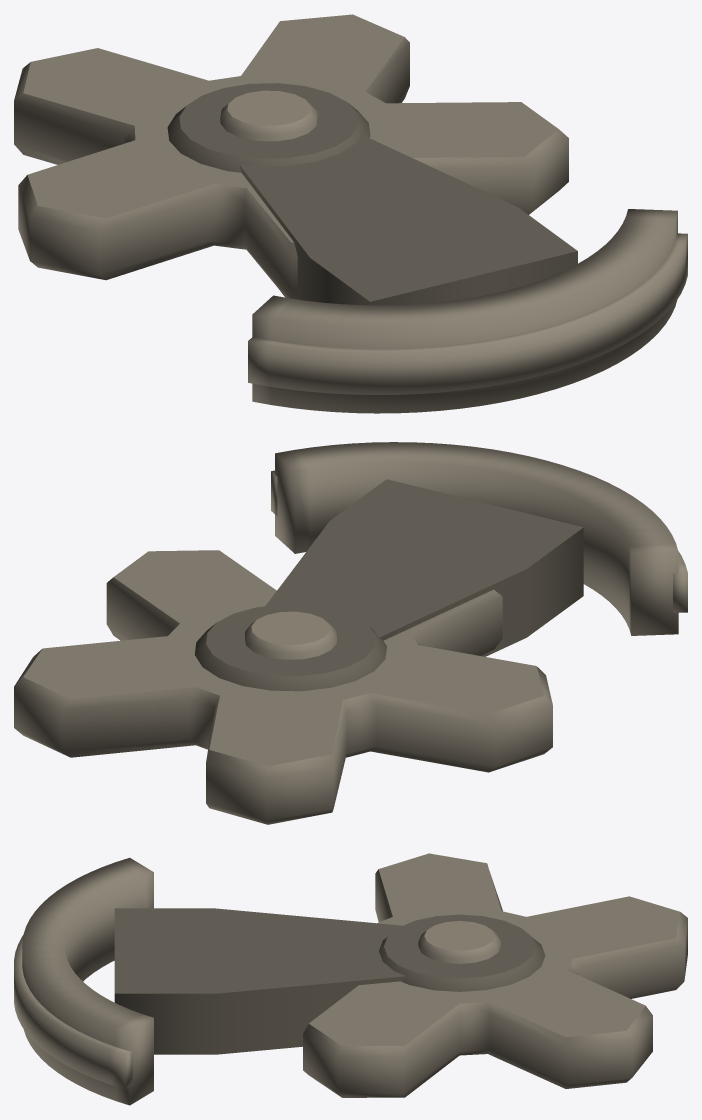
File: star-rowels.glb
3 views of the same model, one above another, from view 1: azimuth 30°, elevation 25°; view 2: azimuth 150°, elevation 25°; view 3: azimuth 270°, elevation 25° (orthographic). The views are drawn at different scales.
Visible parts, largest first — view 1: Beveled rowel wheel, Curved fork neck, Rolled yoke, Forged yoke rib, Raised rowel hub, Turned axle pin; view 2: Beveled rowel wheel, Curved fork neck, Rolled yoke, Raised rowel hub, Turned axle pin, Forged yoke rib; view 3: Beveled rowel wheel, Curved fork neck, Rolled yoke, Raised rowel hub, Forged yoke rib, Turned axle pin.
Part boxes in pixels (x1,y1,x2,y2): Beveled rowel wheel: (14, 14, 568, 299); Curved fork neck: (239, 135, 577, 305); Rolled yoke: (252, 209, 677, 413); Forged yoke rib: (248, 233, 687, 394); Raised rowel hub: (167, 83, 370, 172); Turned axle pin: (220, 90, 317, 141); Beveled rowel wheel: (14, 550, 552, 824); Curved fork neck: (265, 479, 583, 656); Rolled yoke: (275, 442, 678, 635); Raised rowel hub: (194, 604, 386, 691); Turned axle pin: (245, 611, 336, 659); Forged yoke rib: (271, 470, 687, 612); Beveled rowel wheel: (303, 853, 687, 1097); Curved fork neck: (114, 908, 405, 1054); Rolled yoke: (22, 857, 153, 1105); Raised rowel hub: (379, 914, 545, 991); Forged yoke rib: (14, 935, 132, 1089); Turned axle pin: (418, 921, 500, 963).
Bounding box in the file's own units: 0.0561 × 0.012 × 0.0801.
